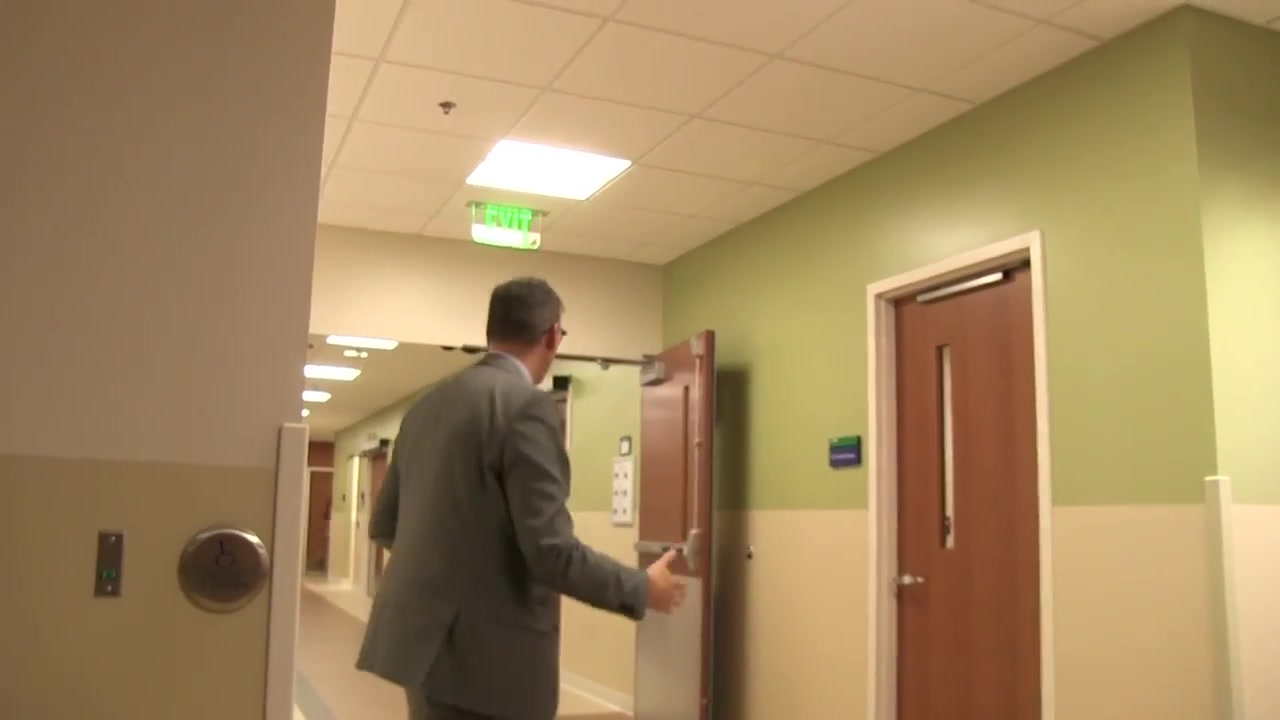door_handle: (895, 573, 926, 587)
person: (355, 272, 685, 720)
press_to_open: (180, 528, 272, 613)
push_latch: (632, 522, 704, 576)
